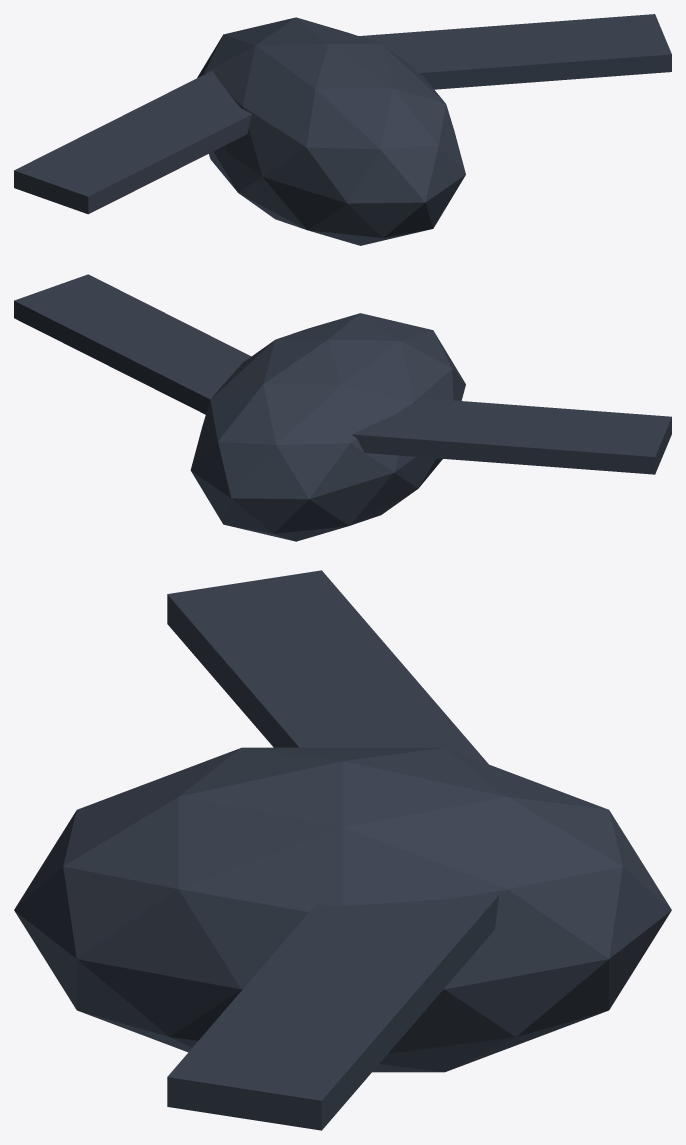
File: Plane_Bird.fbx
The picture shows the model from 3 angles, top to bottom: view 1: azimuth 30°, elevation 25°; view 2: azimuth 150°, elevation 25°; view 3: azimuth 270°, elevation 25°; orthographic projection. The views are drawn at different scales.
Parts seen in each view (by area): view 1: Bird; view 2: Bird; view 3: Bird.
Boxes of the visible parts, x1=… form: Bird: x1=14, y1=14, x2=671, y2=245; Bird: x1=14, y1=274, x2=671, y2=541; Bird: x1=14, y1=570, x2=671, y2=1130.
Size of the model in its own units: 0.7631 by 0.2 by 0.4.
